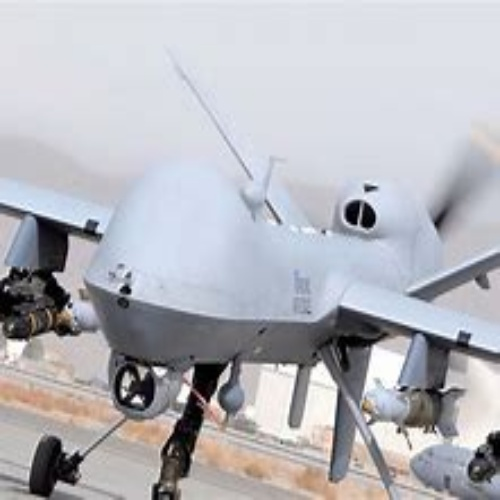uav: (3, 48, 498, 482)
